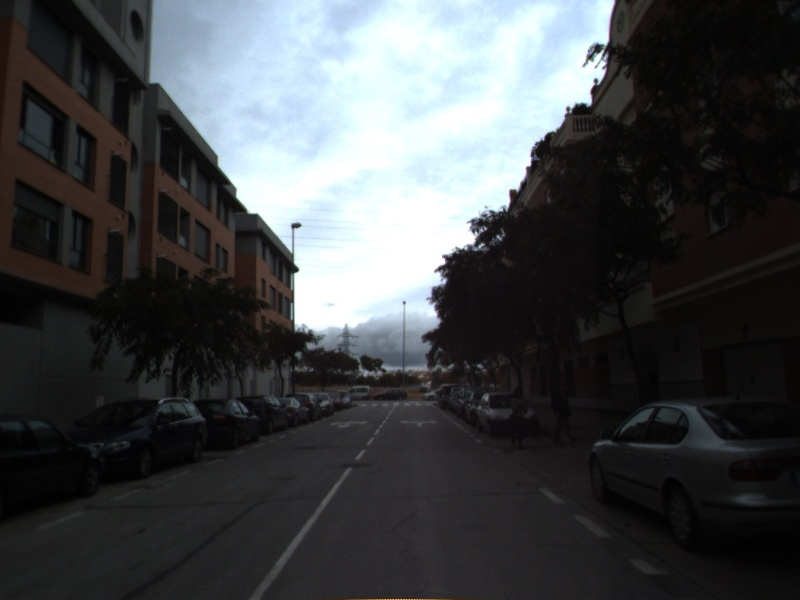LEFT_RIGHT: (398, 417, 441, 429)
